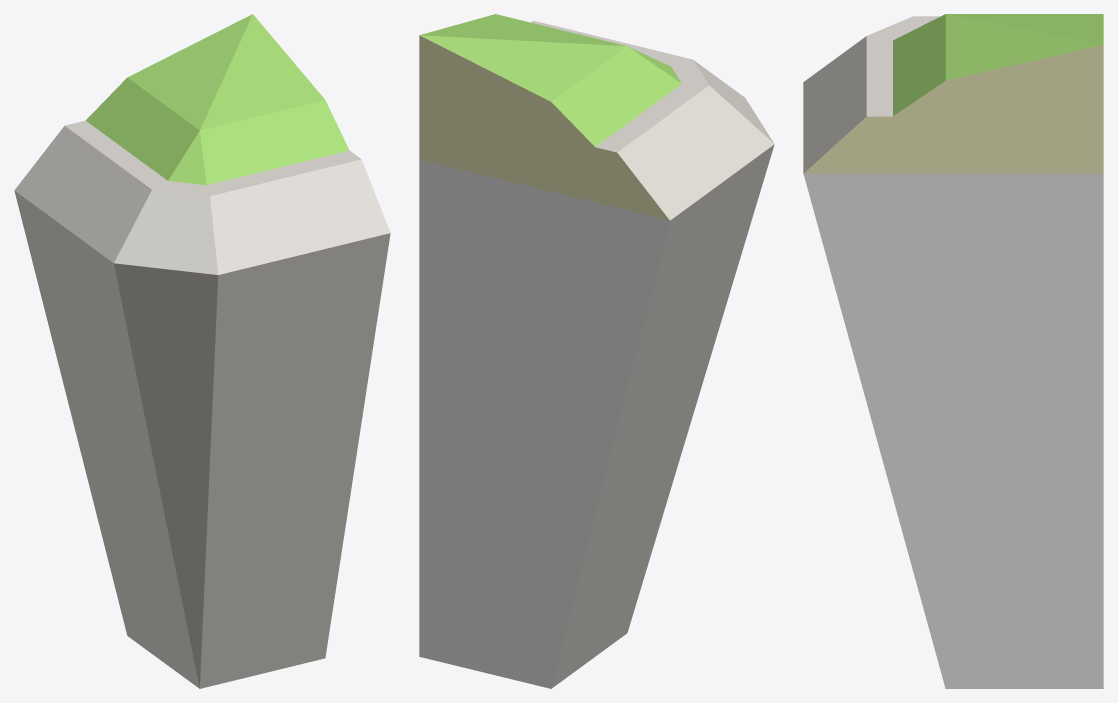
Rendered from Basic_Curve_Outer_1x1_Top.glb.
3 views of the same model, side by side, from view 1: azimuth 30°, elevation 25°; view 2: azimuth 150°, elevation 25°; view 3: azimuth 270°, elevation 25° (orthographic). The views are drawn at different scales.
Parts seen in each view (by area): view 1: Basic_Curve_Outer_1x1_Top; view 2: Basic_Curve_Outer_1x1_Top; view 3: Basic_Curve_Outer_1x1_Top.
Boxes of the visible parts, x1,y1,x2,y2 form: Basic_Curve_Outer_1x1_Top: (14,14,390,688); Basic_Curve_Outer_1x1_Top: (419,14,774,688); Basic_Curve_Outer_1x1_Top: (803,14,1103,688).
Size of what is drawn, in the model's own units: 95 by 225 by 95.
